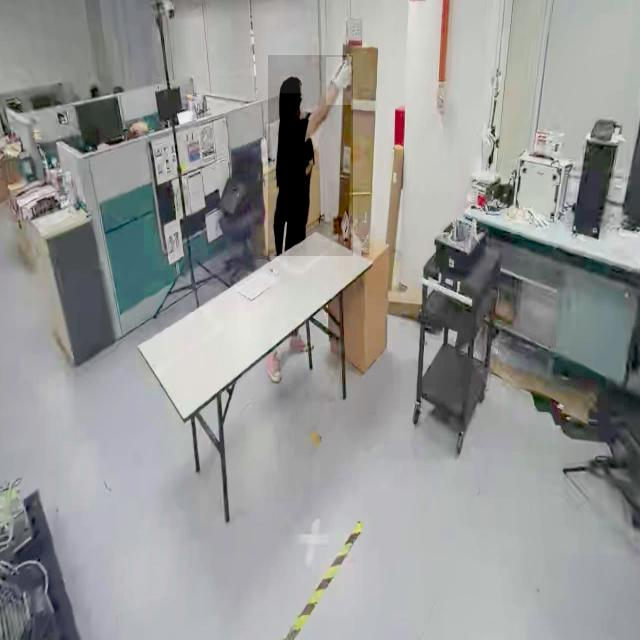hand_glove: (326, 57, 352, 106)
head_nohelmet: (279, 76, 303, 94)
person: (267, 55, 353, 257)
shoes: (288, 326, 314, 358), (266, 345, 284, 387)
